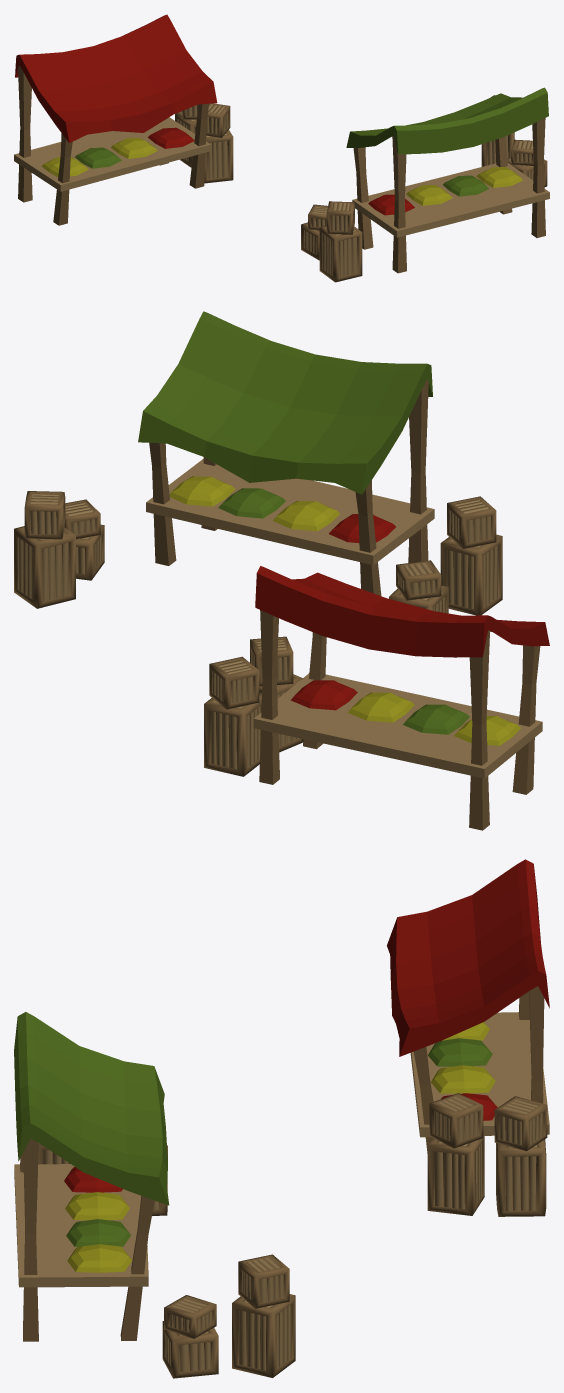
File: market_stalls.fbx
3 views of the same model, one above another, from view 1: azimuth 30°, elevation 25°; view 2: azimuth 150°, elevation 25°; view 3: azimuth 270°, elevation 25° (orthographic). The views are drawn at different scales.
Parts seen in each view (by area): view 1: Market_FirstAge_Level1; view 2: Market_FirstAge_Level1; view 3: Market_FirstAge_Level1.
Part boxes in pixels (x1=…): Market_FirstAge_Level1: x1=14, y1=14, x2=549, y2=282; Market_FirstAge_Level1: x1=14, y1=311, x2=549, y2=830; Market_FirstAge_Level1: x1=14, y1=859, x2=549, y2=1378.
Size of the model in its own units: 1 by 0.3402 by 0.7514.
